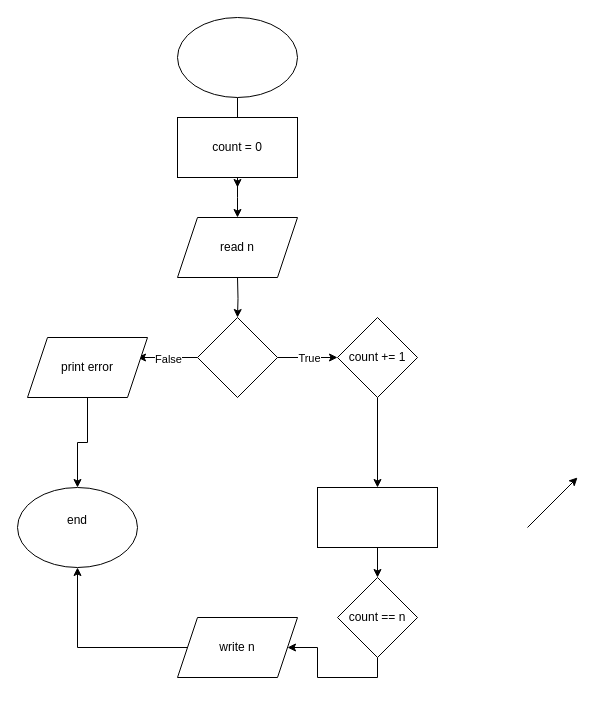
This 603x703 diagram has some shape labels left out. The shapes that lost their labels are listed below. From the top down, each one's centre as x and y in pixels, then its label:
At (237,57): "START".
At (237,357): "n>0 AND n % 1 == 0".
At (377,517): "n += (counter*counter)".
